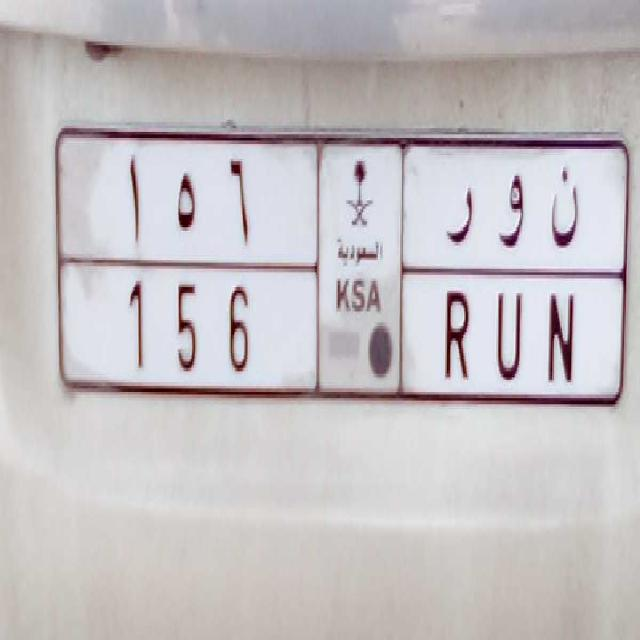license_plate: (83, 258, 589, 424)
